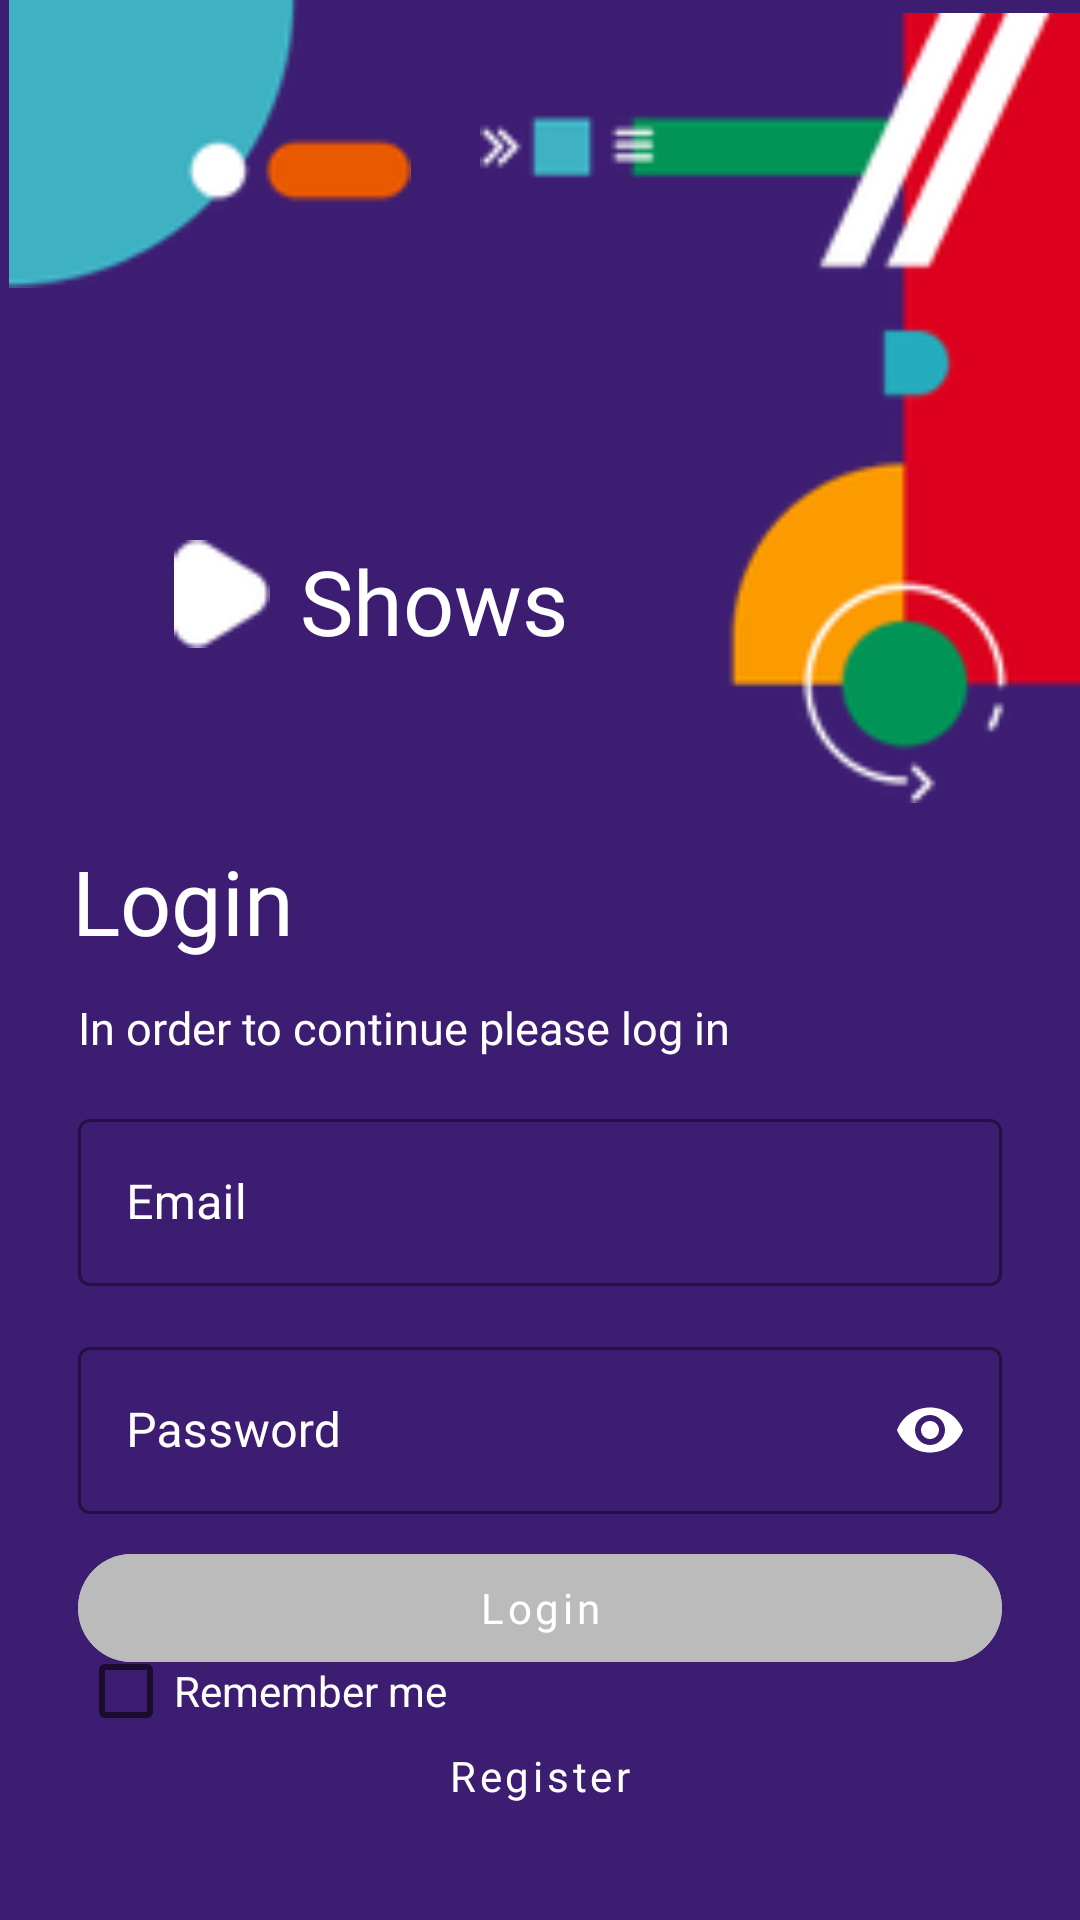

Icon click points for this 1080px×1920px phone screenshot, format (x=x, y=y):
triangle: (x=222, y=594)
